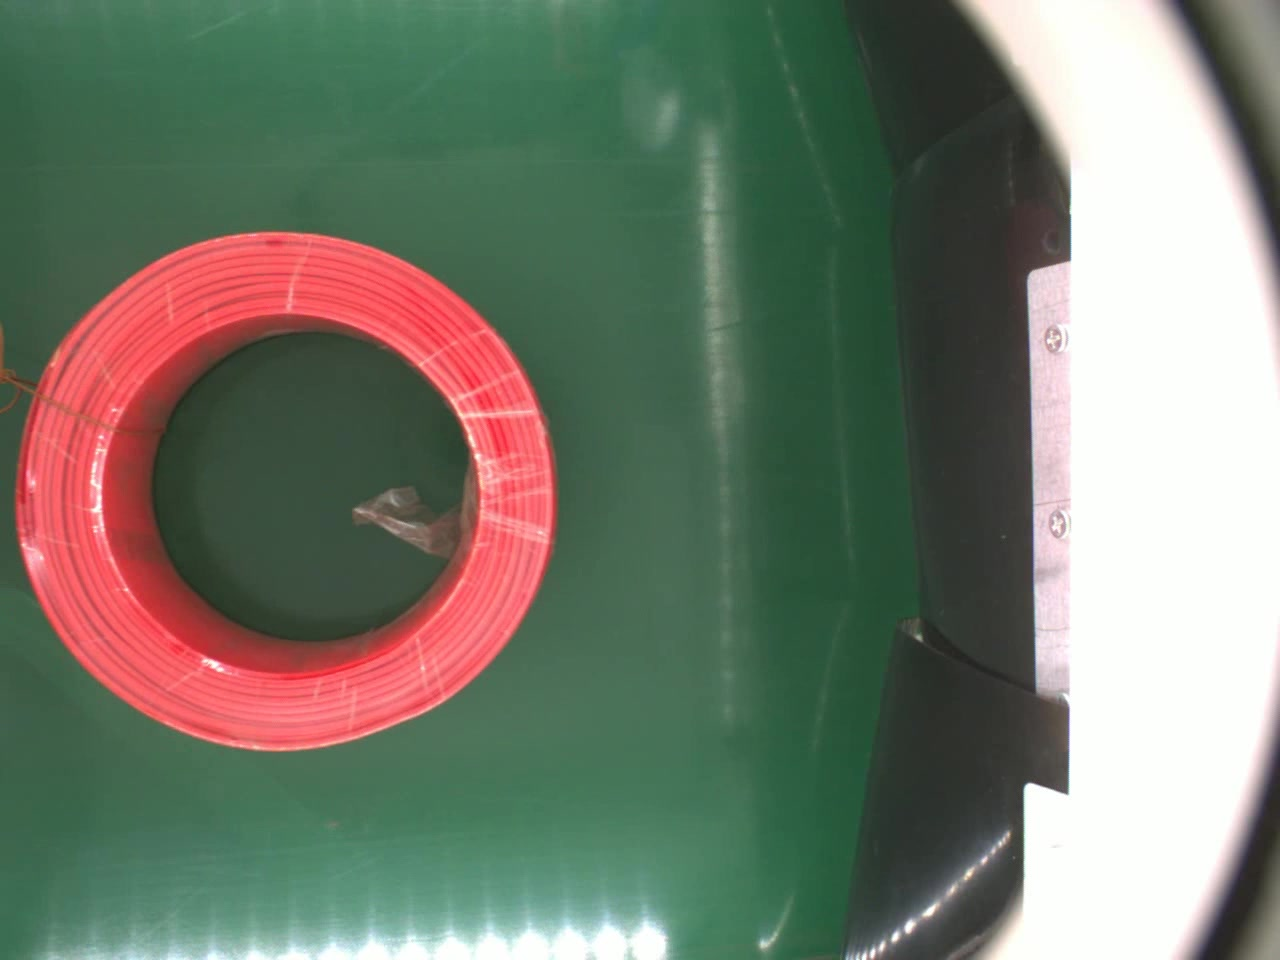red: (14, 229, 555, 753)
